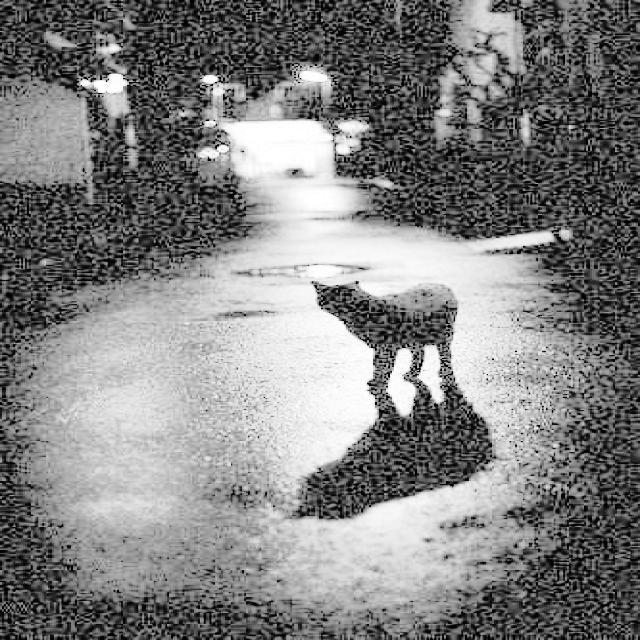Cat: (308, 281, 485, 419)
